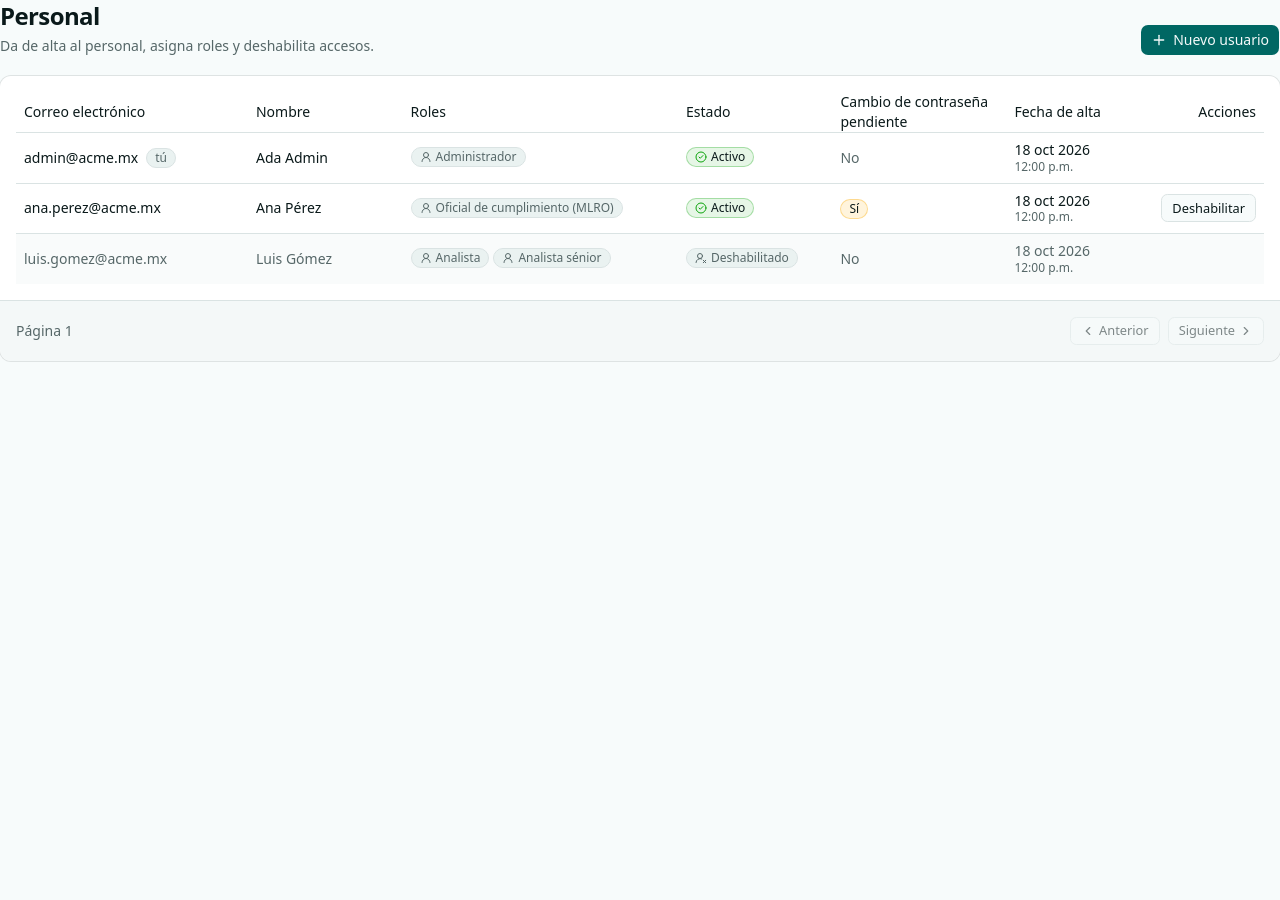
Test: StaffPage: disabling › leaves everything alone when the user cancels
The image size is (1280, 900).
Expected: the text "ana.perez@acme.mx" is shown, x1=24 y1=198 x2=161 y2=218
Click the button with aria-label "Deshabilitar a Ana Pérez" at (1209,208), box x1=1161 y1=194 x2=1256 y2=222
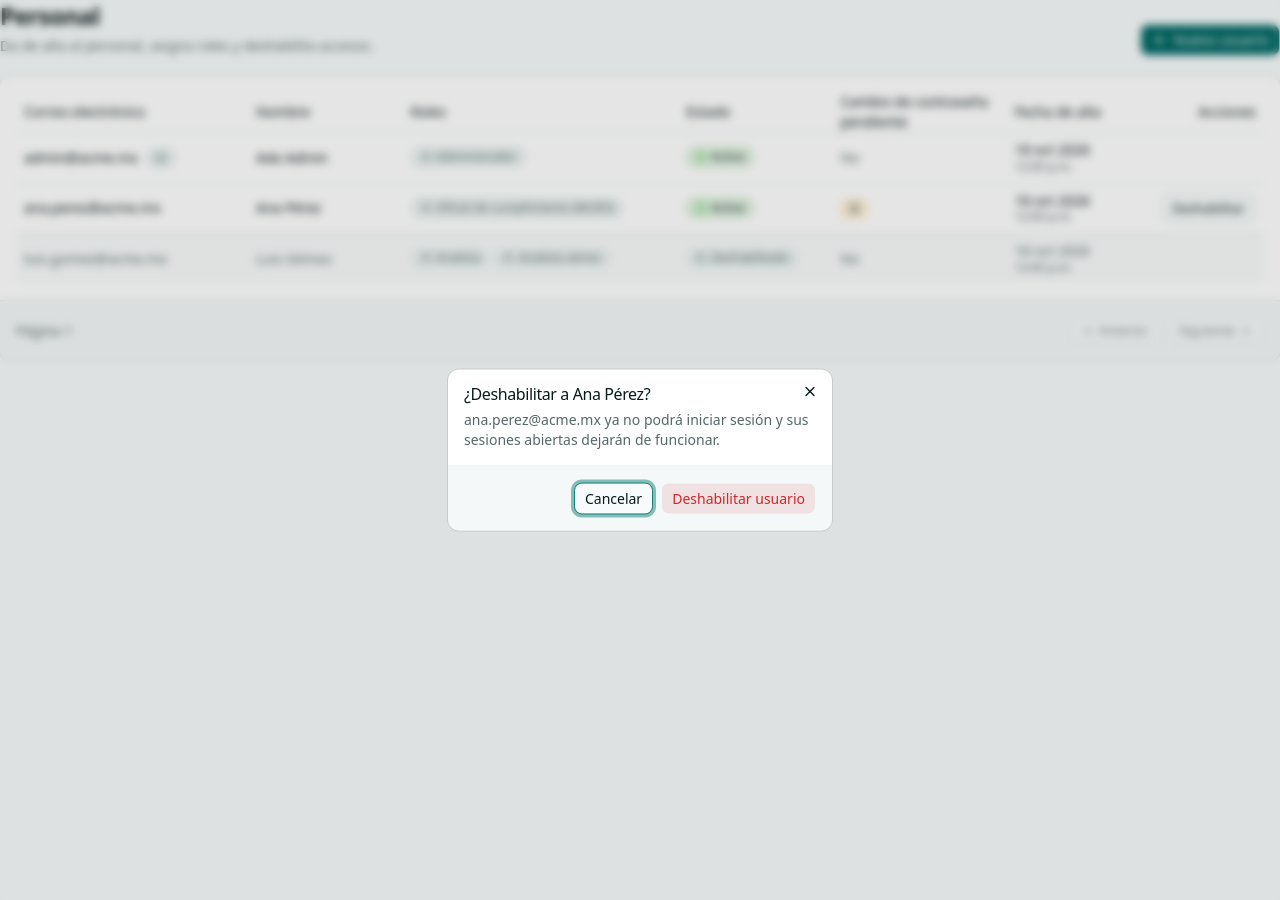
Click the button "Cancelar" at (614,498), box x1=574 y1=482 x2=653 y2=514
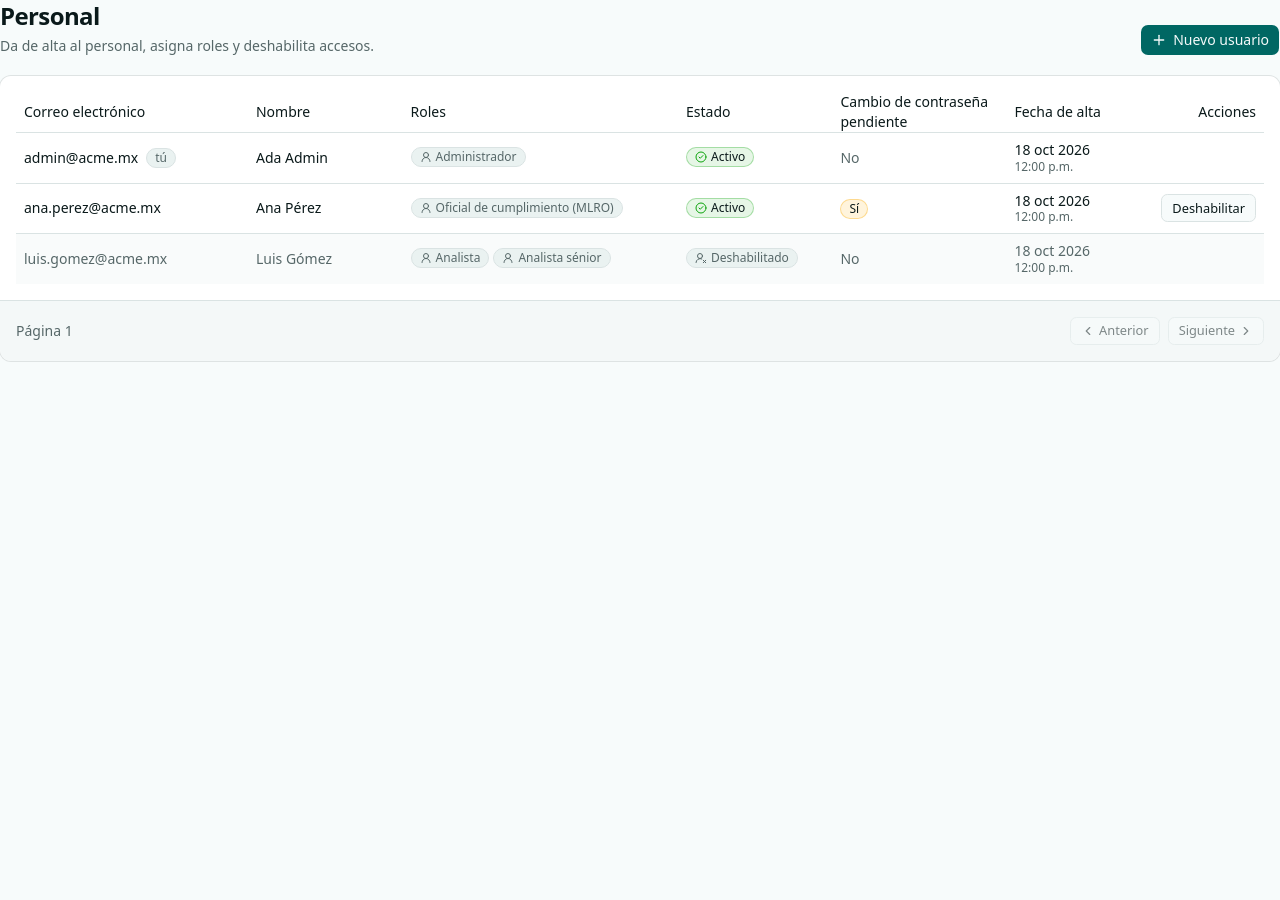
Now the dialog is gone
